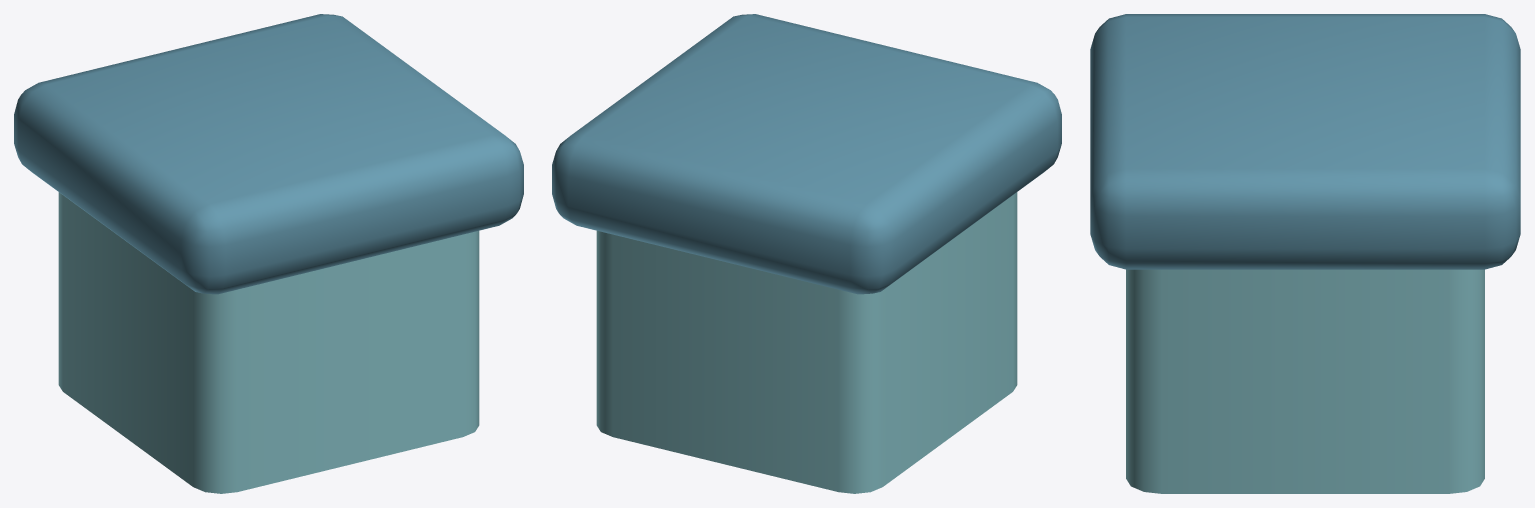
File: GroundLevelButtonCastle.fbx
3 views of the same model, side by side, from view 1: azimuth 30°, elevation 25°; view 2: azimuth 150°, elevation 25°; view 3: azimuth 270°, elevation 25° (orthographic). The views are drawn at different scales.
Parts seen in each view (by area): view 1: GroundLevelButtonCastle; view 2: GroundLevelButtonCastle; view 3: GroundLevelButtonCastle.
Boxes of the visible parts, box(x1,y1,x2,y2) form: GroundLevelButtonCastle: box(14, 14, 523, 493); GroundLevelButtonCastle: box(552, 14, 1061, 493); GroundLevelButtonCastle: box(1090, 14, 1520, 493).
Bounding box in the file's own units: 240 × 200 × 240.
